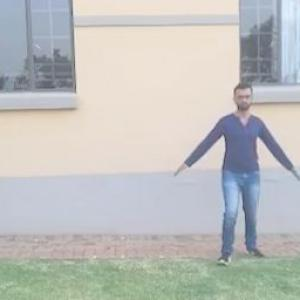land: (185, 86, 297, 256)
